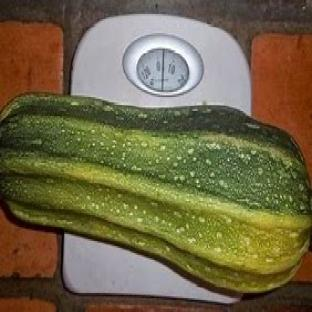Zucchini: (0, 96, 310, 292)
